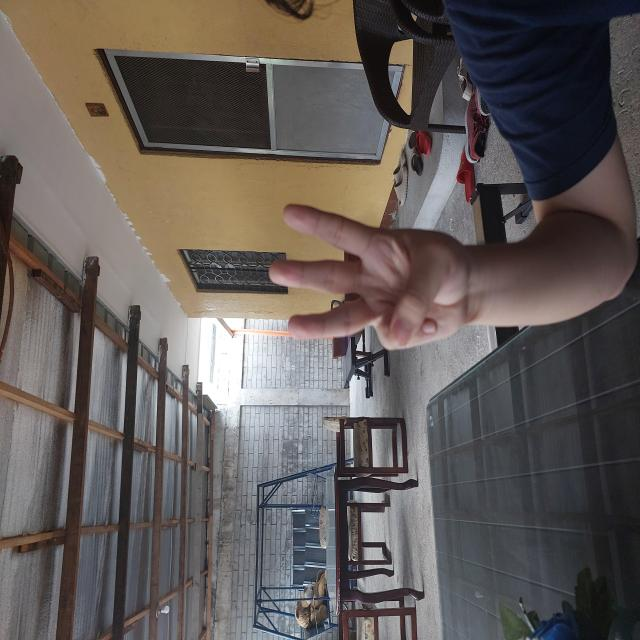W: (288, 266, 439, 472)
